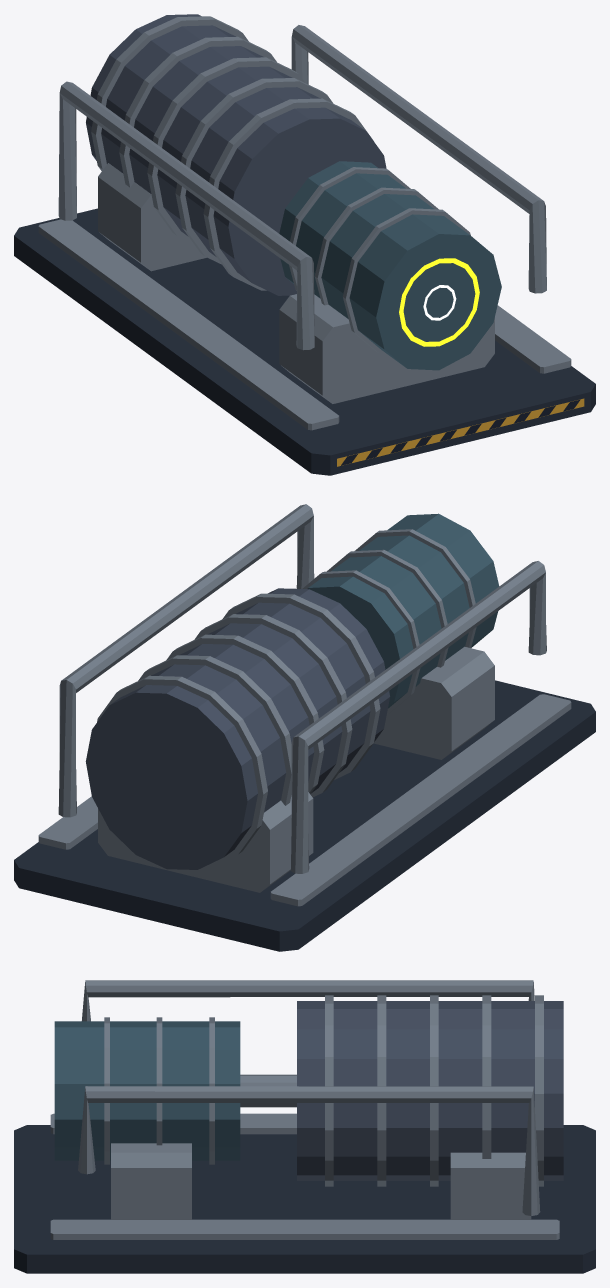
File: fus_steam_turbine_generator.glb
3 renders of one model, top to bottom at view 1: azimuth 30°, elevation 25°; view 2: azimuth 150°, elevation 25°; view 3: azimuth 270°, elevation 25°, orthographic. The views are drawn at different scales.
Visible parts, largest first — view 1: bearing_saddle, turbine_foundation, turbine_shell, generator_stator, warning_band, rotor_inspection_ring, slash; view 2: bearing_saddle, turbine_shell, turbine_foundation, generator_stator; view 3: bearing_saddle, turbine_foundation, turbine_shell, generator_stator.
Boxes of the visible parts, x1,y1,x2,y2 form: bearing_saddle: (38,16,571,430); turbine_foundation: (14,208,595,475); turbine_shell: (86,14,386,295); generator_stator: (279,161,501,370); warning_band: (337,398,584,466); rotor_inspection_ring: (399,258,479,346); slash: (341,399,580,465); bearing_saddle: (38,504,571,906); turbine_shell: (85,588,390,869); turbine_foundation: (14,680,595,951); generator_stator: (307,513,499,708); bearing_saddle: (50,980,559,1239); turbine_foundation: (14,1125,595,1273); turbine_shell: (297,1001,563,1180); generator_stator: (54,1021,240,1160).
Size of the model in its own units: 3.8 by 2.8 by 7.2.
